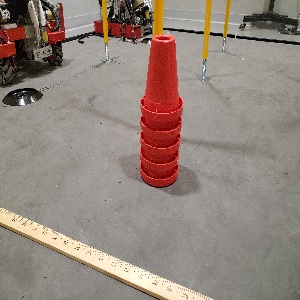Red_5: (140, 33, 177, 190)
